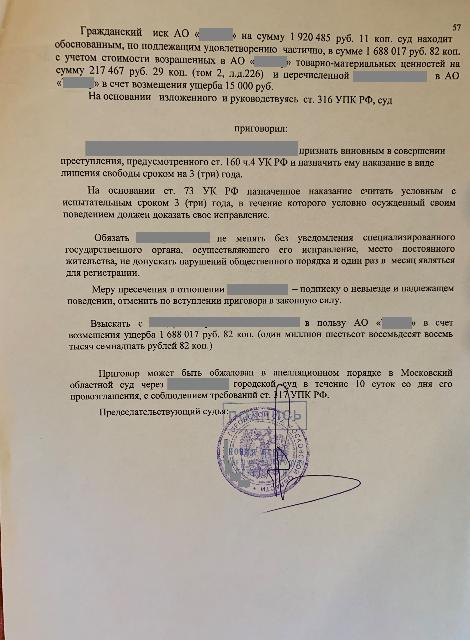stamp: (218, 406, 310, 500)
